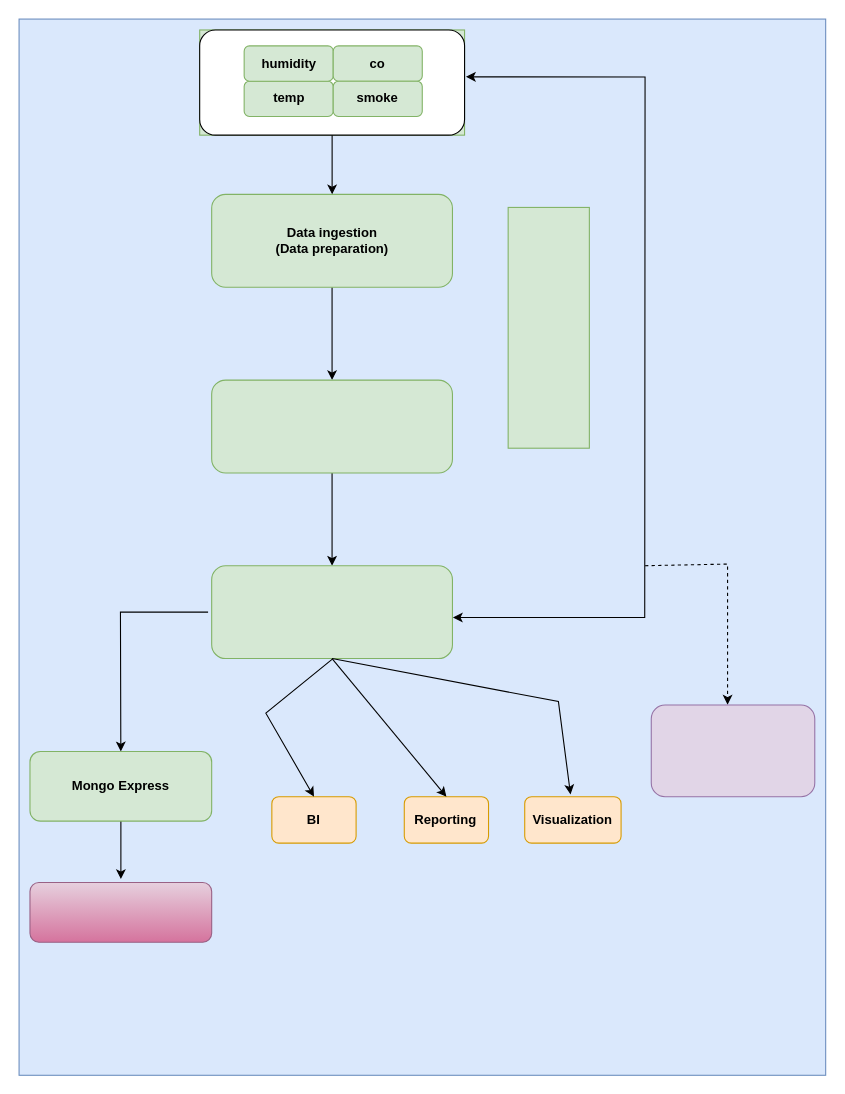
The diagram is 845 pixels wide and 1094 high, and some of its shapes have lost their labels. Each missing label, with the centre of its shape:
"Code & Docker file hosted on GitHub" goes at point (732, 750).
"Docker container" goes at point (548, 327).
"MongoDB (Data storage + Indexing)" goes at point (331, 612).
"Processing (ETL: Data transformation/loading)" goes at point (331, 426).
"Query service" goes at point (120, 911).
